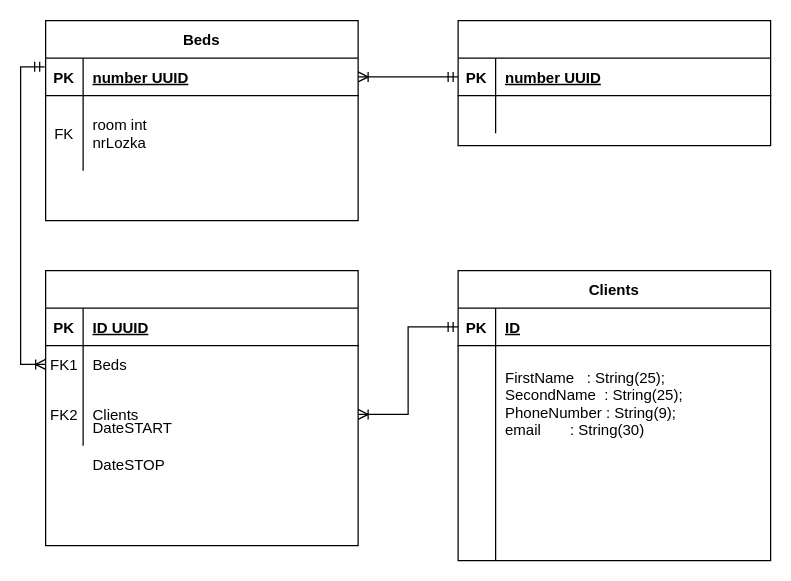
Image size: 791x581. Some labels were removed from this diagram. The shapes that lost their labels are listed below. From the top down, each one's box as (x1, y1, x2, y2) in pixels, then its label:
(457, 19, 771, 146): Rooms
(44, 269, 358, 546): Reservations
